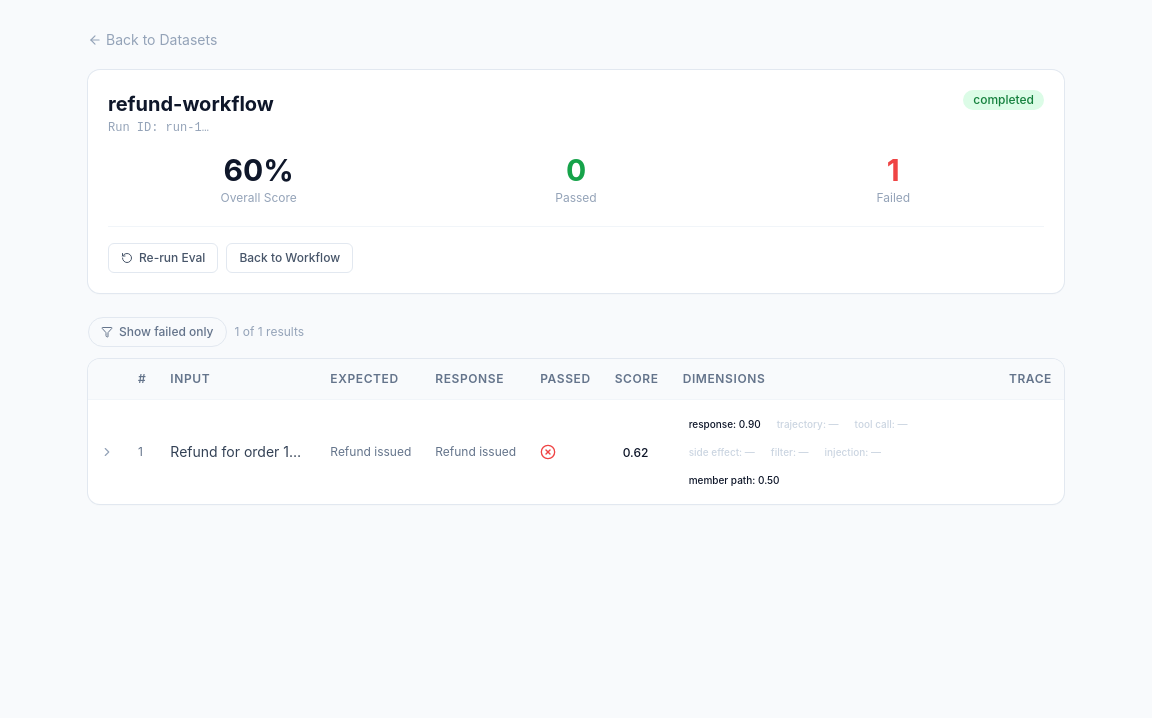
EvalResultsPage — workflow run-tree evidence (Eval v2 E-5) › renders expected-vs-actual member path + member_diff + per-member panel on expand
What coordinates should you click on to do the following:
click the text "Refund for order 123 never arrived"
I would click on:
 (238, 452)
Its box is [158,400,318,504].
(page scrolled)
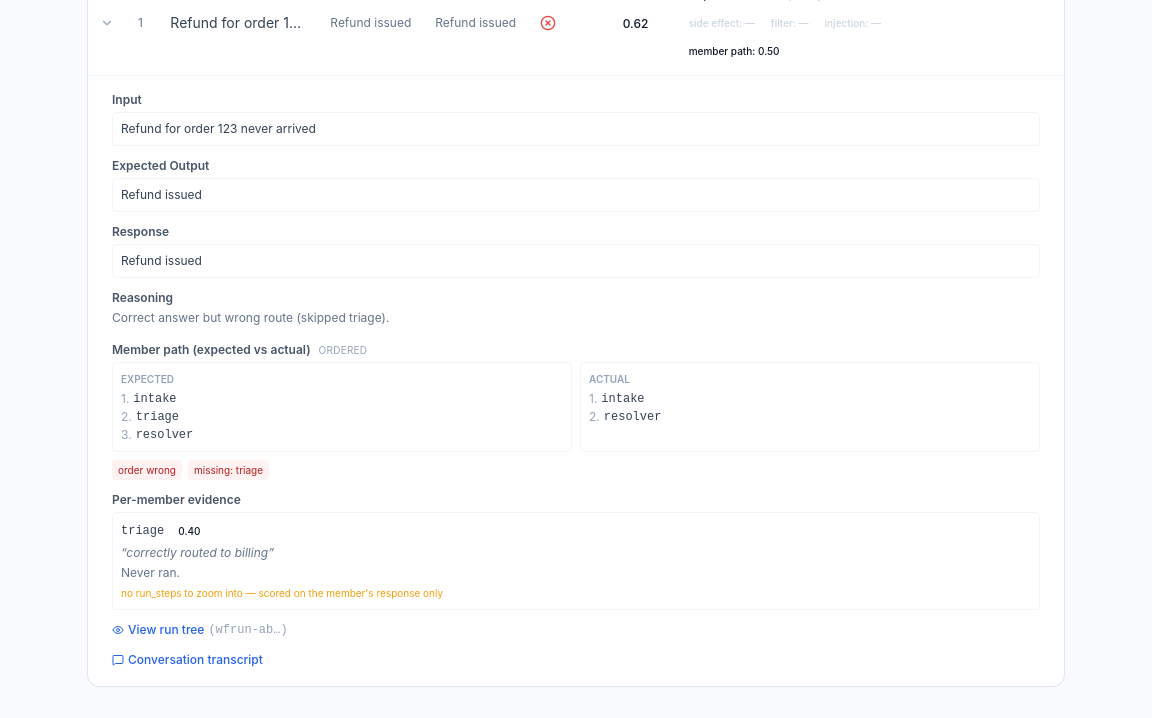
Check: the element with test id "workflow-evidence" is shown, box [112,338,1040,640]
Check: the element with test id "actual-member-path" shows "intake", box [601,392,645,406]
Check: the element with test id "actual-member-path" shows "resolver", box [604,410,661,424]
